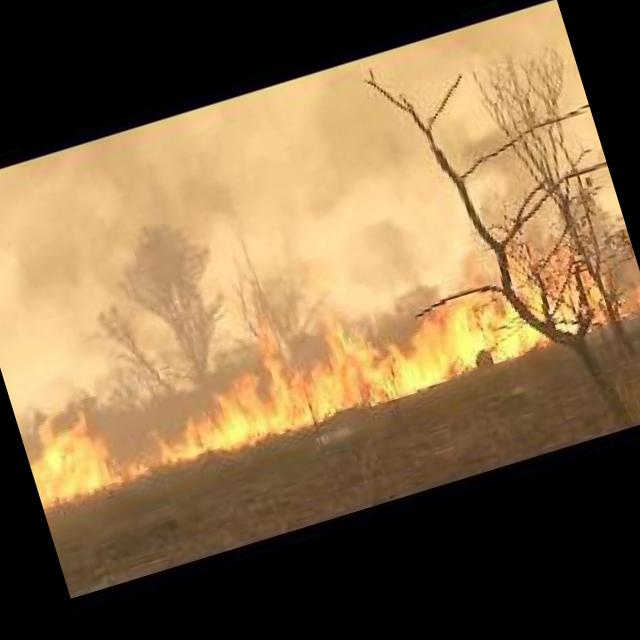fire: (132, 234, 624, 466), (20, 404, 146, 513), (625, 273, 640, 319)
